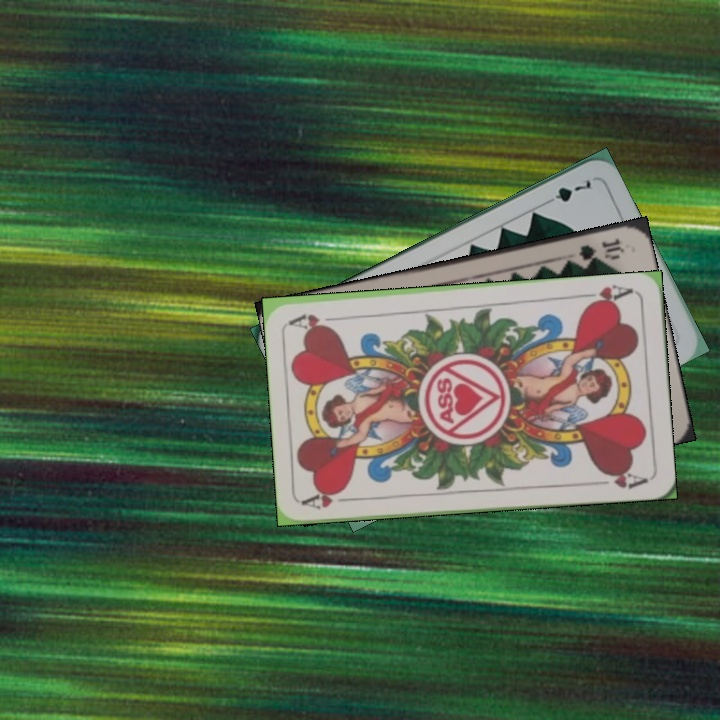G10: (575, 234, 627, 264)
G7: (539, 175, 594, 206)
HA: (577, 281, 635, 310), (301, 486, 360, 512)
